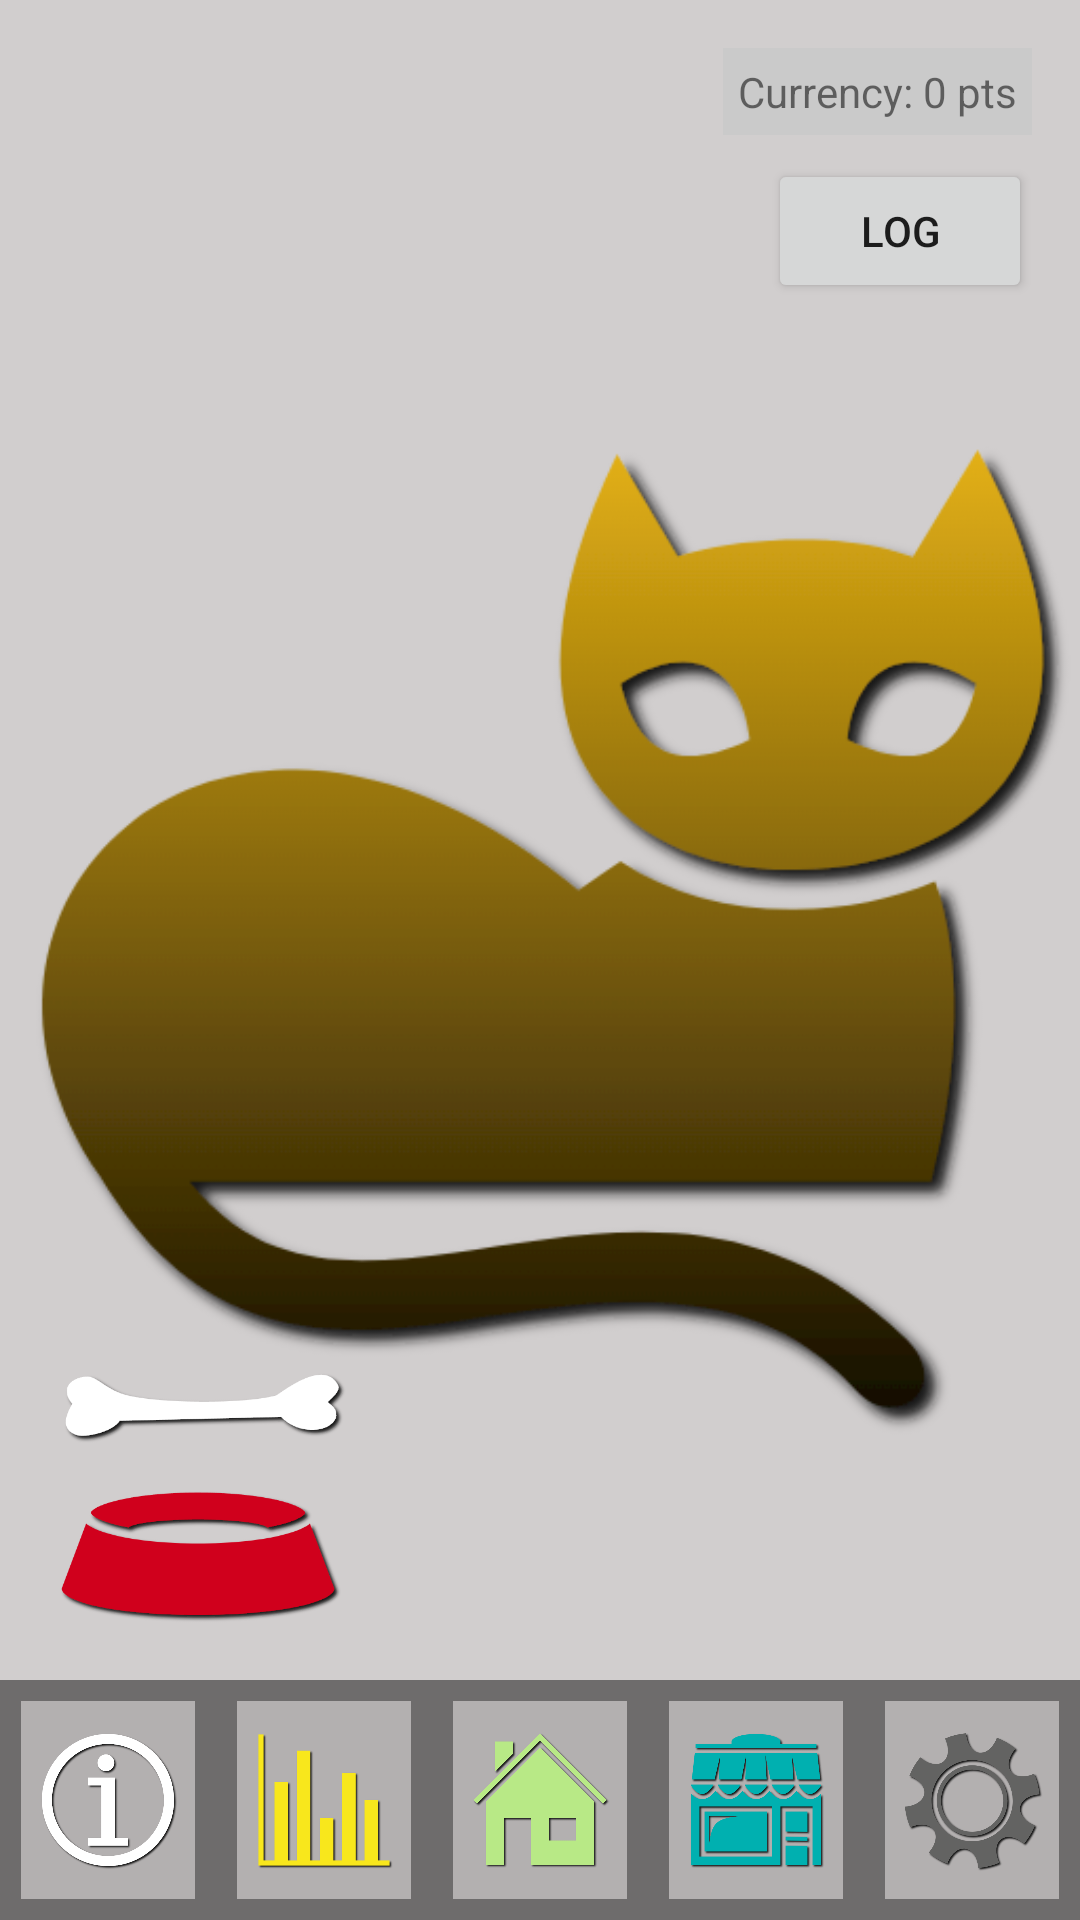

Named icons in this screenshot (1080×1920) and their centers, [x,y]:
cog: [972,1800]
dogbowl: [202,1497]
histogram: [324,1800]
house: [540,1800]
info: [108,1800]
shop: [756,1800]
